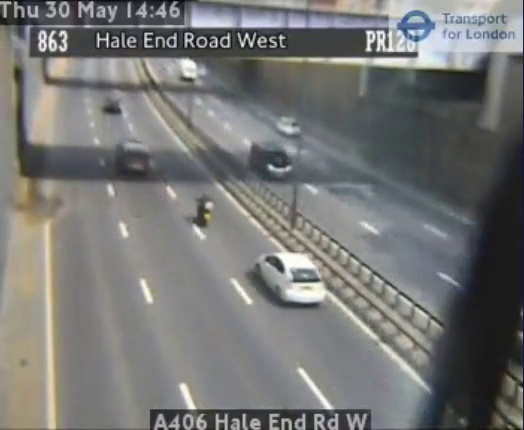car: (256, 253, 325, 303)
motorcycle: (195, 191, 214, 227)
